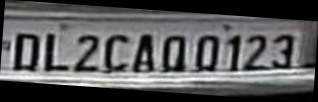character: (72, 32, 102, 74), (12, 31, 41, 72), (130, 31, 157, 74), (44, 31, 72, 72), (160, 32, 188, 73), (103, 31, 131, 71), (244, 33, 272, 71), (194, 34, 221, 73), (271, 31, 296, 71), (226, 32, 242, 73)
